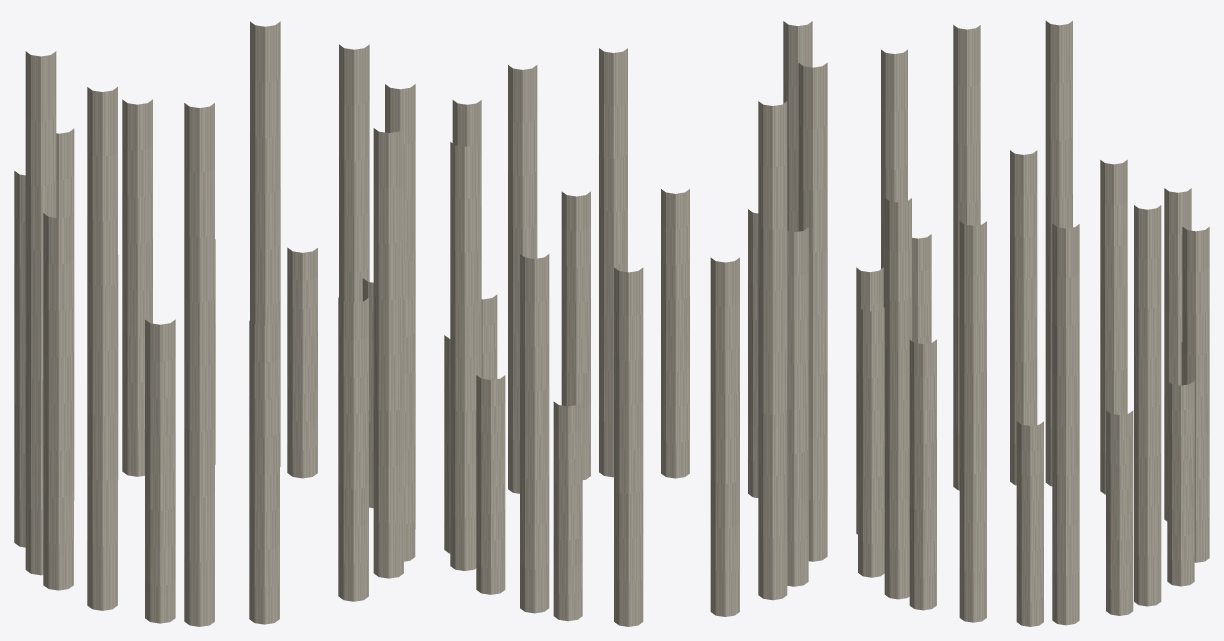
The model's file is cave-and-crystal-networks-soda-straws-703aa05f.glb.
3 views of the same model, side by side, from view 1: azimuth 30°, elevation 25°; view 2: azimuth 150°, elevation 25°; view 3: azimuth 270°, elevation 25° (orthographic). The views are drawn at different scales.
Parts seen in each view (by area): view 1: soda-straws; view 2: soda-straws; view 3: soda-straws.
Part boxes in pixels (left/top/right/bottom): soda-straws: left=14, top=21, right=415, bottom=626; soda-straws: left=444, top=21, right=827, bottom=626; soda-straws: left=856, top=21, right=1209, bottom=626.
Bounding box in the file's own units: 0.6482 × 0.92 × 0.6378.
Materials: 1 (1 with a texture image).
